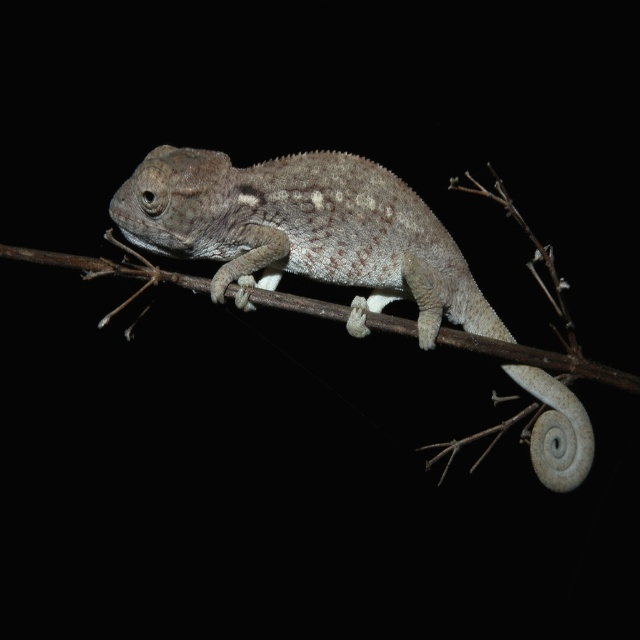Lizard: (109, 171, 554, 420)
